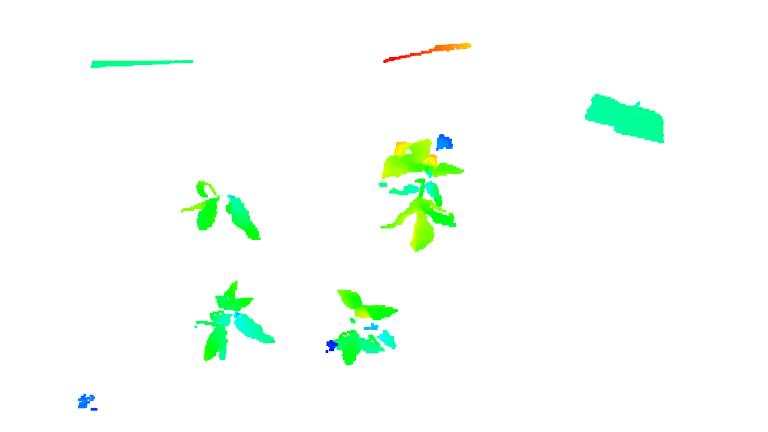mungbean: (374, 125, 468, 255), (189, 278, 277, 364), (323, 284, 404, 368), (178, 173, 266, 242)
